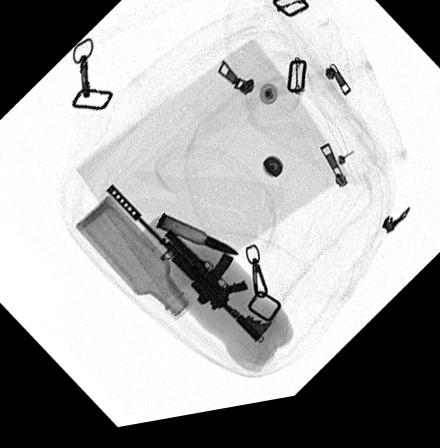Bullet: (155, 218, 237, 264)
Gun: (104, 189, 273, 352)
